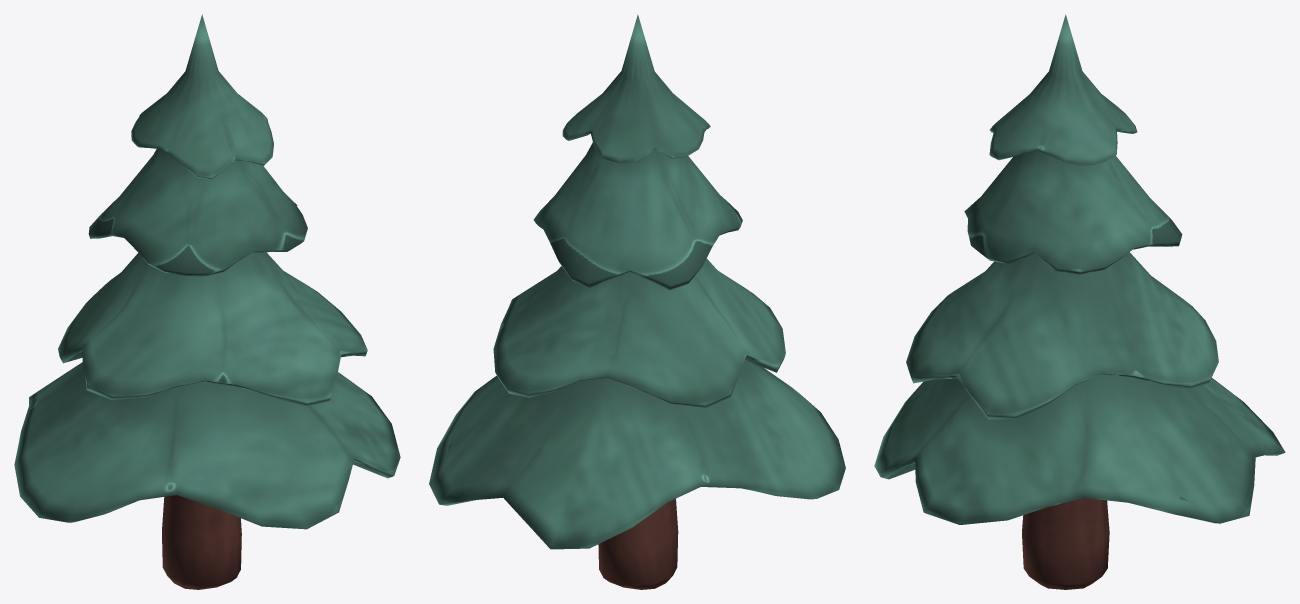
File: Abeto.fbx
The picture shows the model from 3 angles, left to right: view 1: azimuth 30°, elevation 25°; view 2: azimuth 150°, elevation 25°; view 3: azimuth 270°, elevation 25°; orthographic projection.
Parts seen in each view (by area): view 1: Abeto_Low_Pablo; view 2: Abeto_Low_Pablo; view 3: Abeto_Low_Pablo.
Part boxes in pixels (x1,y1,x2,y2): Abeto_Low_Pablo: [14, 14, 400, 589]; Abeto_Low_Pablo: [429, 14, 845, 589]; Abeto_Low_Pablo: [874, 14, 1285, 589].
Size of the model in its own units: 2482 by 3901 by 2577.
